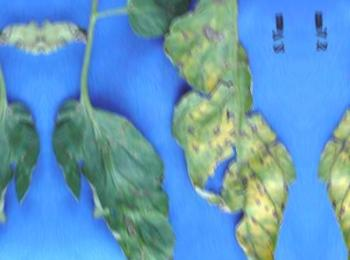Tomato Septoria leaf spot: (157, 0, 309, 260), (48, 79, 192, 260)
